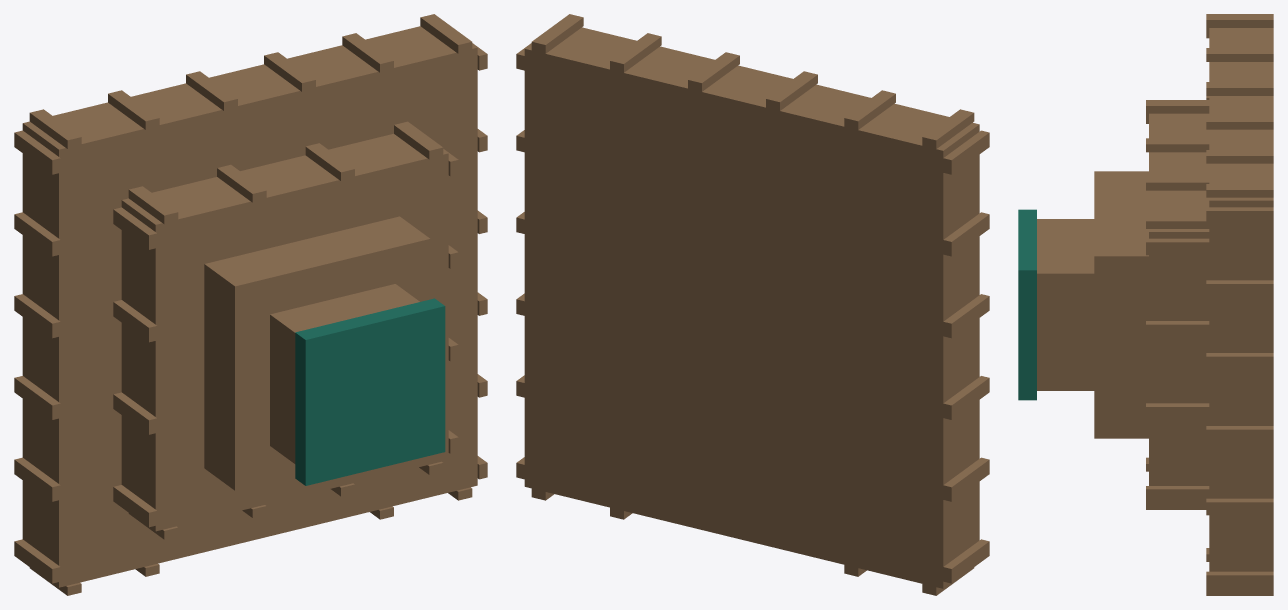
File: SM_Ziggurat_Base.obj
The picture shows the model from 3 angles, left to right: view 1: azimuth 30°, elevation 25°; view 2: azimuth 150°, elevation 25°; view 3: azimuth 270°, elevation 25°; orthographic projection. The views are drawn at different scales.
Parts seen in each view (by area): view 1: Mudbrick, PatinaBronze; view 2: Mudbrick; view 3: Mudbrick, PatinaBronze.
Boxes of the visible parts, bbox=[...] form: Mudbrick: bbox=[14, 14, 487, 595]; PatinaBronze: bbox=[295, 298, 445, 485]; Mudbrick: bbox=[516, 14, 989, 595]; Mudbrick: bbox=[1037, 14, 1273, 595]; PatinaBronze: bbox=[1018, 209, 1036, 400].
Bounding box in the file's own units: 3120 × 3120 × 1780.
